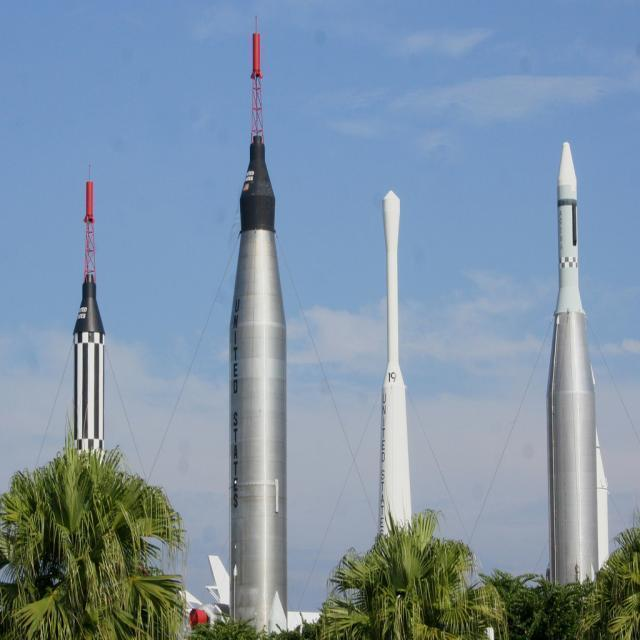missile: (205, 8, 317, 640), (530, 144, 621, 592), (362, 186, 442, 638), (66, 173, 127, 463)
